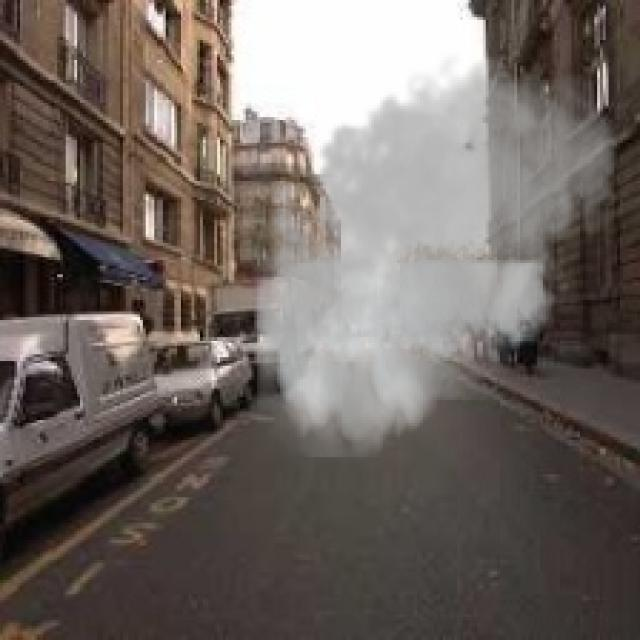Smoke: (243, 42, 626, 458)
